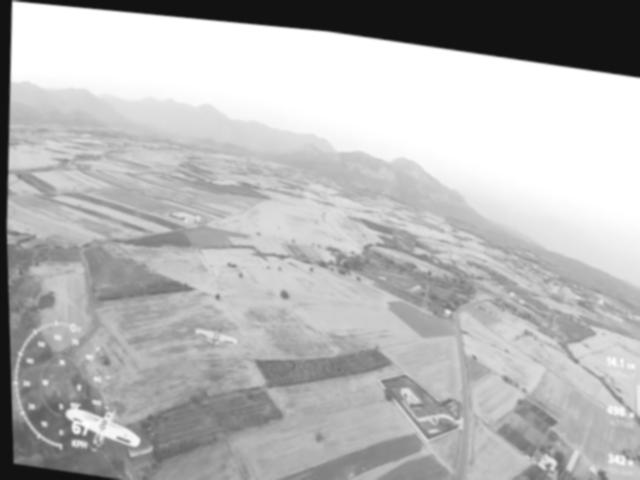hedef: (184, 305, 246, 353)
